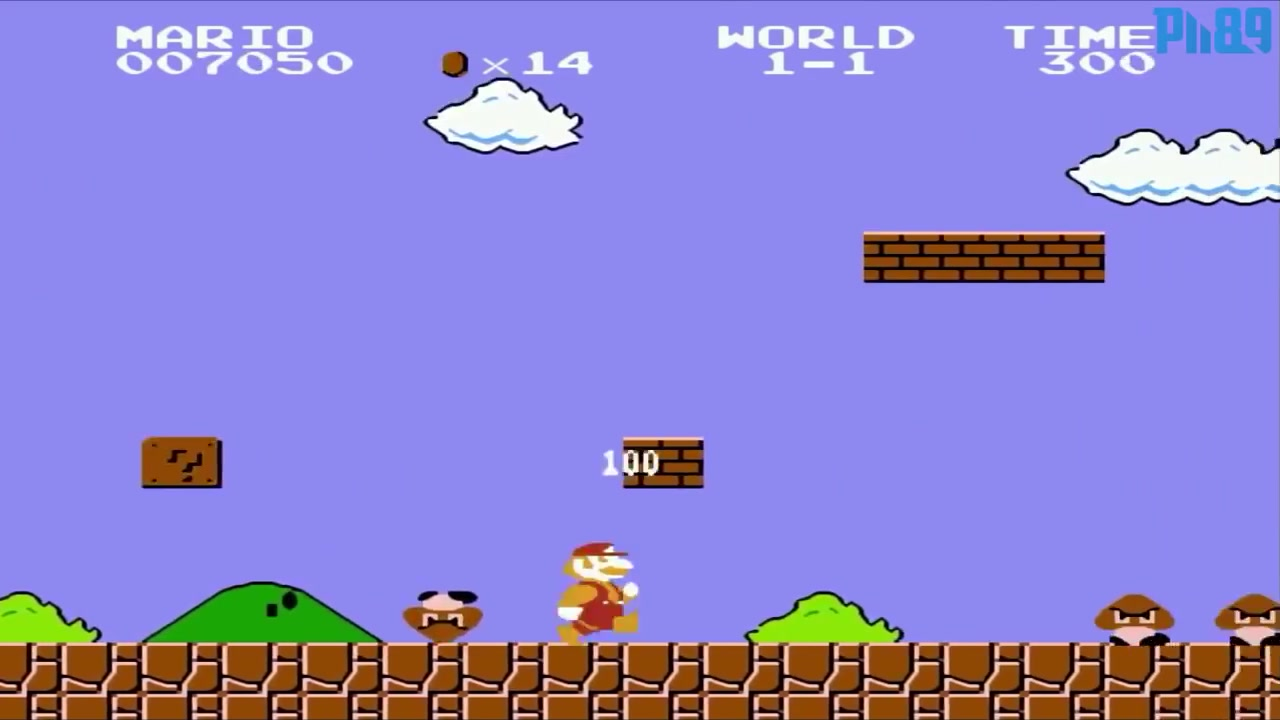mario: (542, 536, 644, 643)
